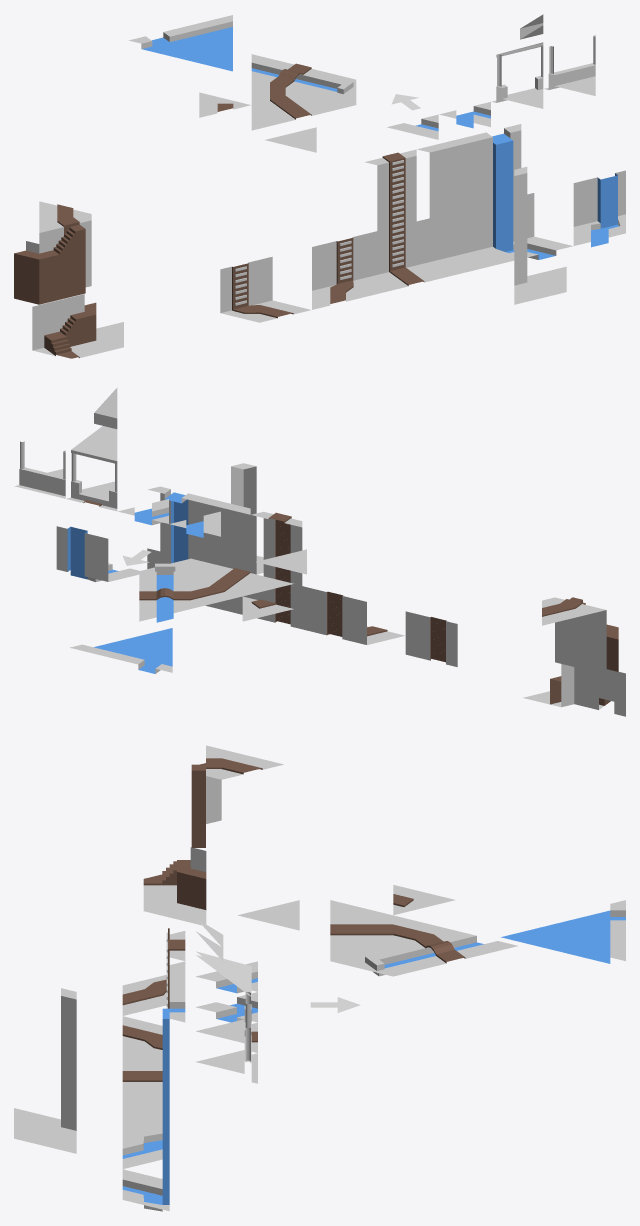
Rendered from AsianVillage.fbx.
3 renders of one model, top to bottom at view 1: azimuth 30°, elevation 25°; view 2: azimuth 150°, elevation 25°; view 3: azimuth 270°, elevation 25°, orthographic. The views are drawn at different scales.
Visible parts, largest first — view 1: Ladder, Cliff, WaterfallBottomRight, CliffBottom, LadderBottomLeft, CliffBottom.001, LadderBottomRight, LadderBottom, Waterfall, Cliff.001, WaterfallBottomLeft, CliffSmallBottom.001 (+38 smaller); view 2: Cliff.001, Cliff, WaterfallBottomRight, PavillionTop, LadderBottomLeft, LadderBottomRight, Waterfall, Ladder, CliffBottom.001, PavillionSide, LadderBottom, PavillionDoor (+28 smaller); view 3: CliffSmallBottom.002, CliffSmallLeftEdgeBottom, PavillionTop, PavillionSide, Bridge, CliffSmallLeftEdge, RoadStraightSmallLeft, RiverStart, RoadStraight, Water, CliffSmallBottomRiverRight, WaterStartSmall (+25 smaller).
Boxes of the visible parts, bbox=[...] form: Ladder: bbox=[377, 167, 416, 230]; Cliff: bbox=[429, 154, 468, 217]; WaterfallBottomRight: bbox=[586, 170, 625, 234]; CliffBottom: bbox=[429, 209, 468, 271]; LadderBottomLeft: bbox=[220, 260, 259, 322]; CliffBottom.001: bbox=[32, 297, 71, 358]; LadderBottomRight: bbox=[325, 234, 364, 296]; LadderBottom: bbox=[377, 221, 416, 282]; Waterfall: bbox=[482, 141, 521, 205]; Cliff.001: bbox=[52, 231, 91, 298]; WaterfallBottomLeft: bbox=[482, 198, 514, 256]; CliffSmallBottom.001: bbox=[71, 294, 123, 358]; Cliff.001: bbox=[555, 615, 593, 671]; Cliff: bbox=[212, 510, 250, 572]; WaterfallBottomRight: bbox=[56, 526, 95, 581]; PavillionTop: bbox=[71, 387, 117, 464]; LadderBottomLeft: bbox=[418, 614, 457, 667]; LadderBottomRight: bbox=[315, 589, 353, 641]; Waterfall: bbox=[160, 497, 198, 560]; Ladder: bbox=[263, 522, 302, 585]; CliffBottom.001: bbox=[587, 669, 625, 716]; PavillionSide: bbox=[14, 441, 65, 498]; LadderBottom: bbox=[263, 579, 302, 629]; PavillionDoor: bbox=[66, 454, 117, 511]; CliffSmallBottom.002: bbox=[144, 847, 206, 925]; CliffSmallLeftEdgeBottom: bbox=[14, 1074, 76, 1153]; PavillionTop: bbox=[196, 918, 251, 998]; PavillionSide: bbox=[196, 1003, 257, 1083]; Bridge: bbox=[394, 930, 455, 959]; CliffSmallLeftEdge: bbox=[61, 1009, 76, 1078]; RoadStraightSmallLeft: bbox=[330, 929, 392, 961]; RiverStart: bbox=[331, 946, 393, 976]; RoadStraight: bbox=[331, 915, 393, 945]; Water: bbox=[501, 922, 563, 952]; CliffSmallBottomRiverRight: bbox=[122, 1169, 162, 1201]; WaterStartSmall: bbox=[563, 922, 625, 952].
Size of the model in its own units: 2281 by 786 by 1689.
